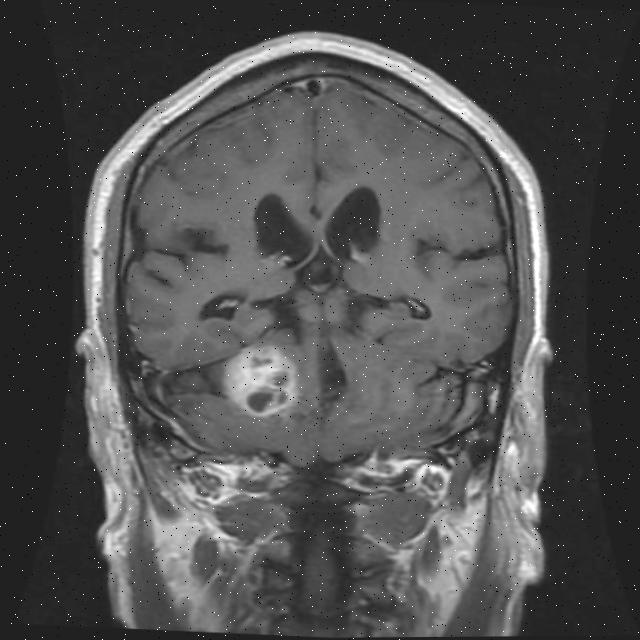Meningioma: (220, 341, 302, 419)
